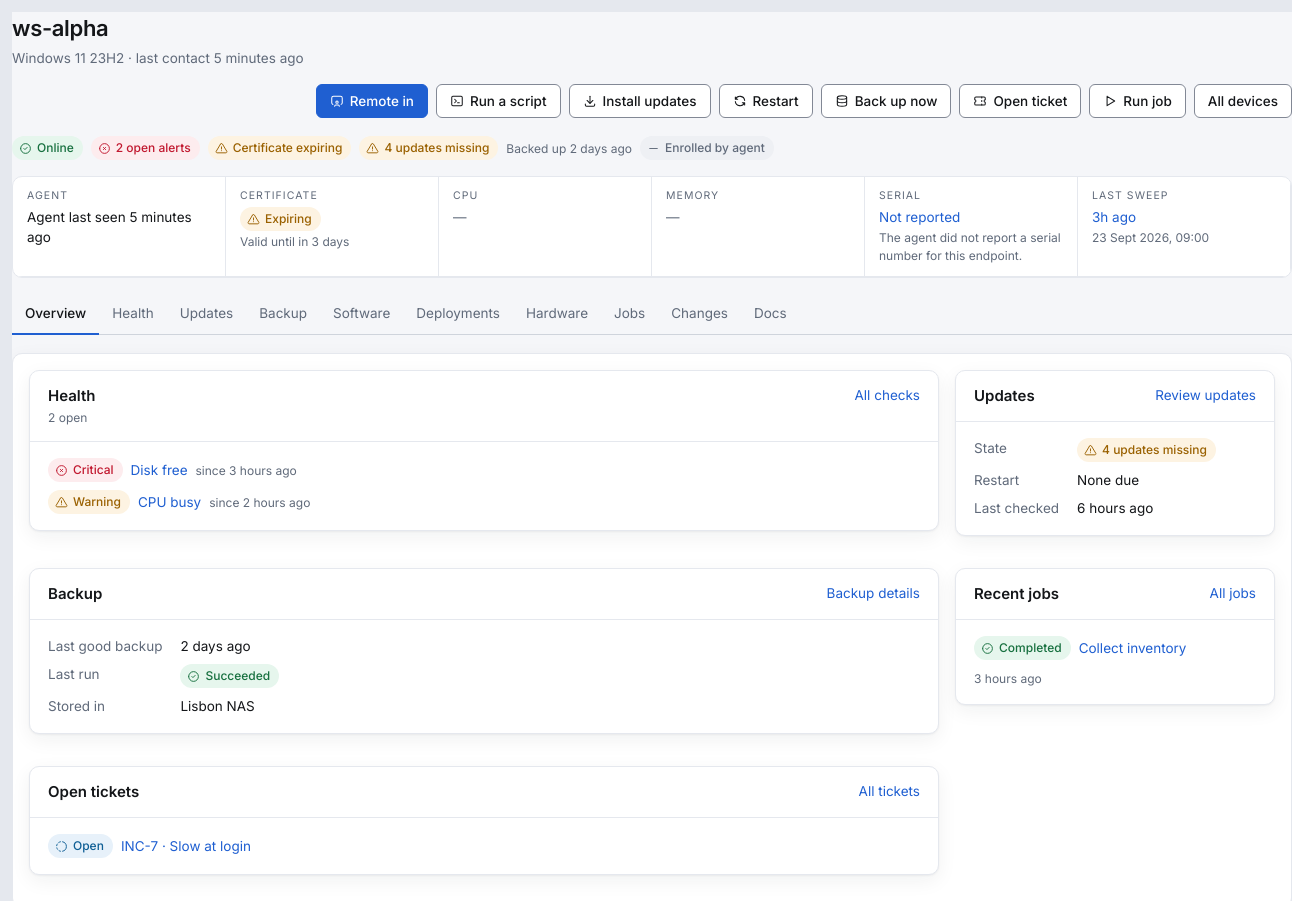
Test: the actions › starts a backup of this device and says what happened
Click the button "Back up now" at (886, 101), box [821, 84, 952, 118]
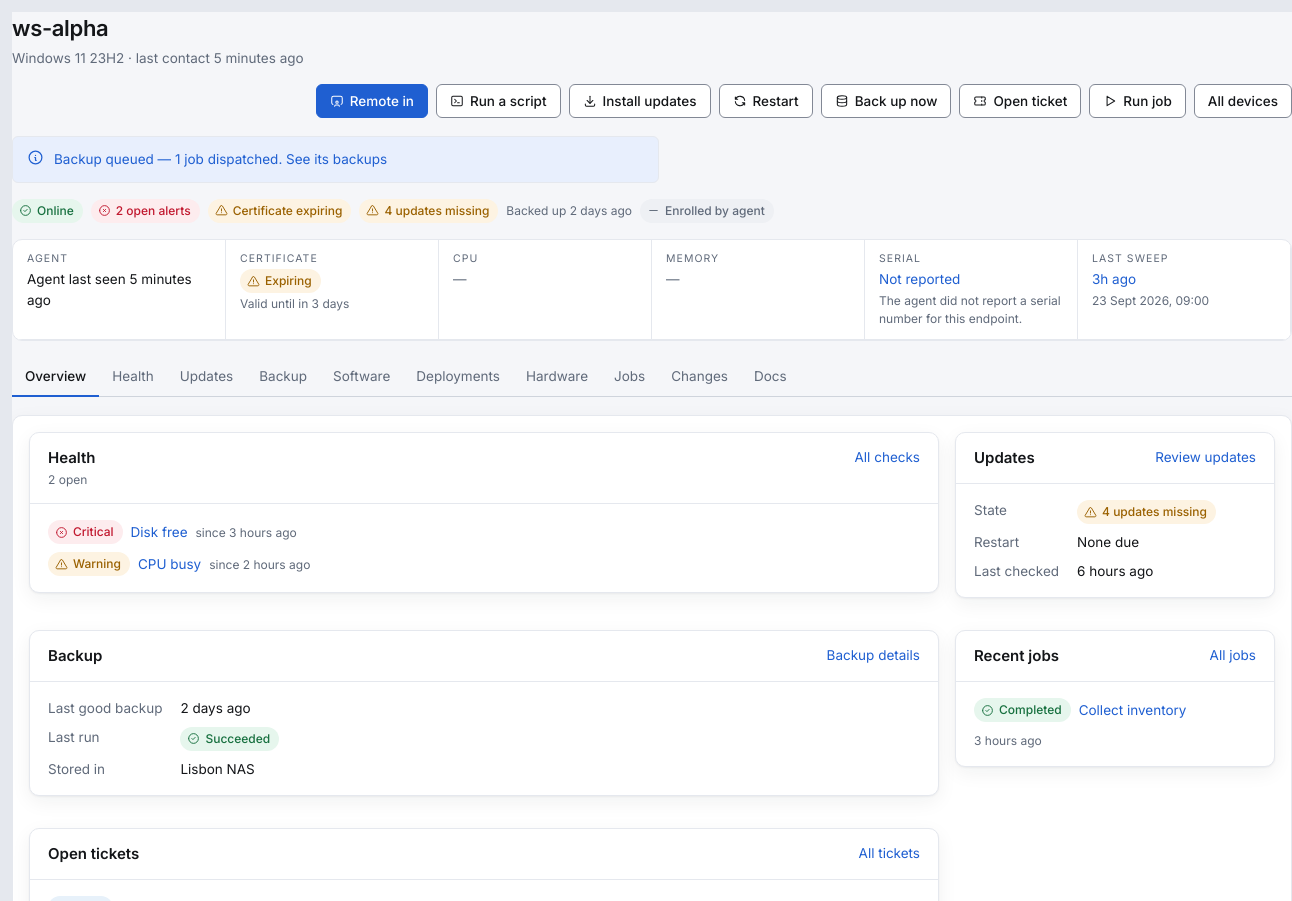
Expected: the message shows "Backup queued", [54, 151, 282, 167]
